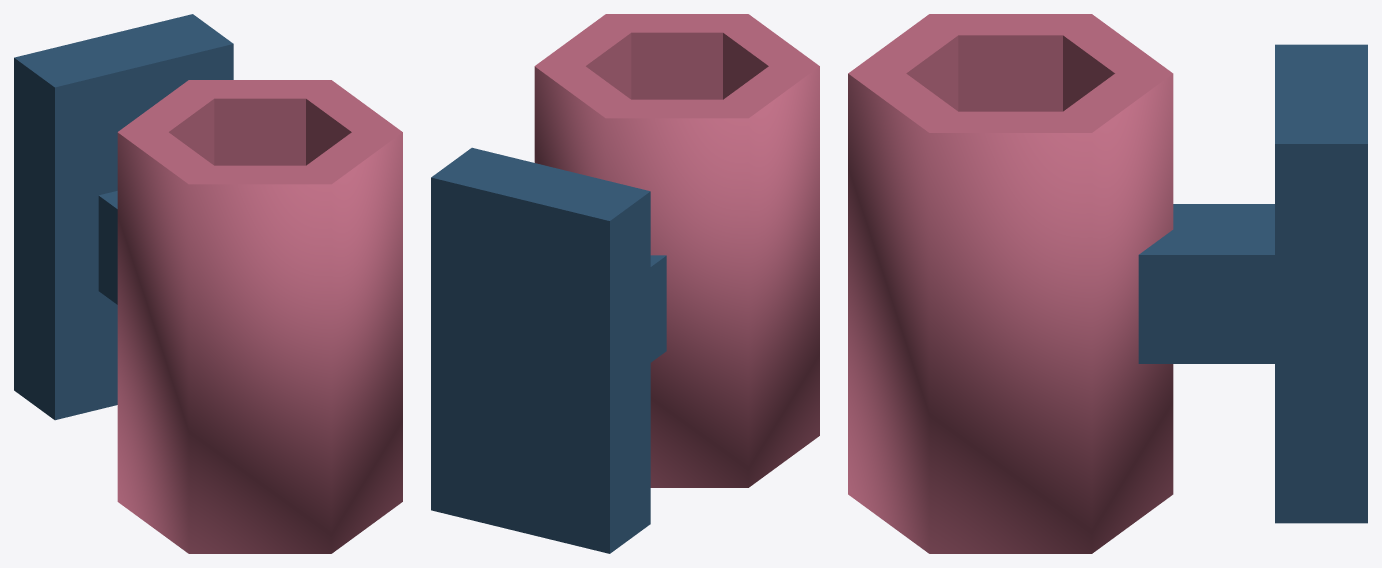
Rendered from wallLamp.fbx.
The picture shows the model from 3 angles, left to right: view 1: azimuth 30°, elevation 25°; view 2: azimuth 150°, elevation 25°; view 3: azimuth 270°, elevation 25°; orthographic projection. The views are drawn at different scales.
Visible parts, largest first — view 1: WallLamp; view 2: WallLamp; view 3: WallLamp.
Boxes of the visible parts, x1,y1,x2,y2 form: WallLamp: (14,14,402,553); WallLamp: (431,14,819,553); WallLamp: (848,14,1367,553).
Size of the model in its own units: 12.12 by 20 by 22.38.
Materials: 1 (1 with a texture image).
